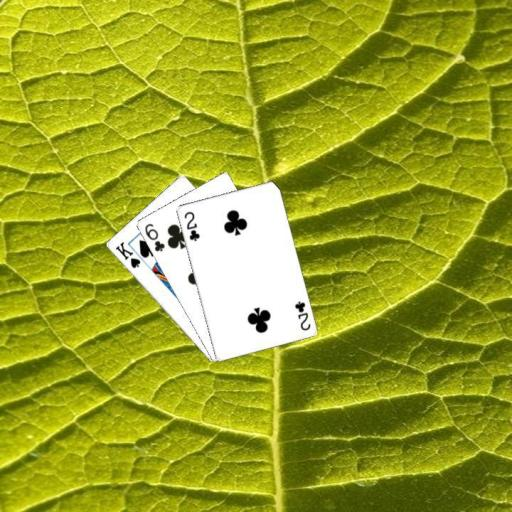2C: (181, 209, 201, 243), (292, 298, 312, 332)
6C: (141, 220, 166, 253)
KS: (112, 238, 142, 270)
